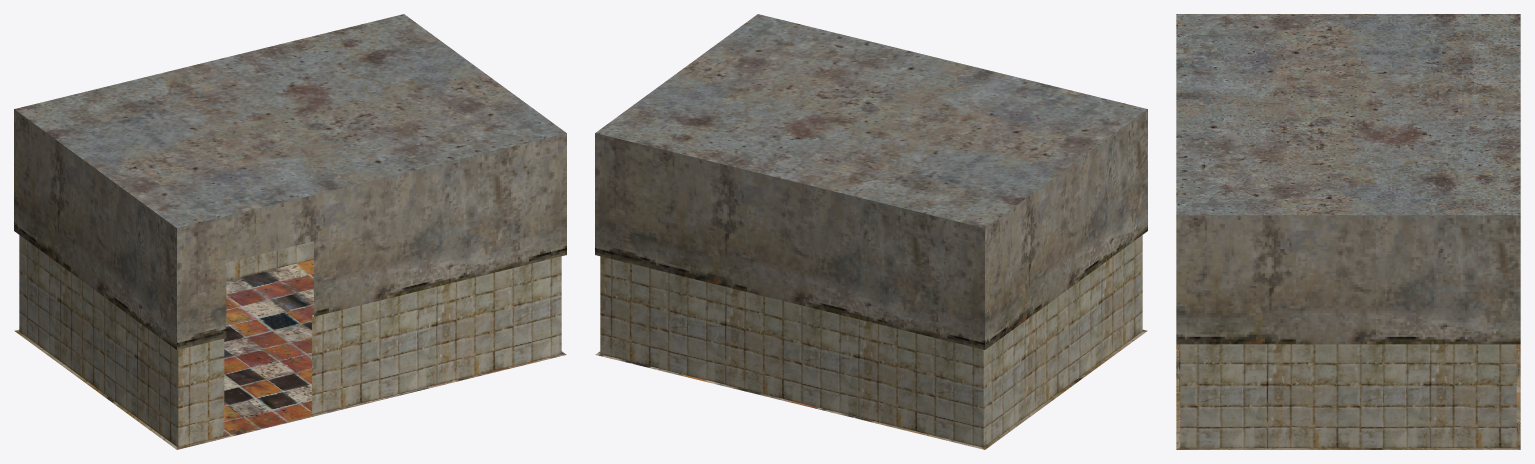
Rendered from _Room_3.FBX.
3 views of the same model, side by side, from view 1: azimuth 30°, elevation 25°; view 2: azimuth 150°, elevation 25°; view 3: azimuth 270°, elevation 25° (orthographic). The views are drawn at different scales.
Parts seen in each view (by area): view 1: _Room_3; view 2: _Room_3; view 3: _Room_3.
Boxes of the visible parts, x1,y1,x2,y2 form: _Room_3: (14,14,566,449); _Room_3: (595,14,1147,449); _Room_3: (1176,14,1520,449).
Bounding box in the file's own units: 419 × 227 × 303.
Materials: 4 (4 with a texture image).
